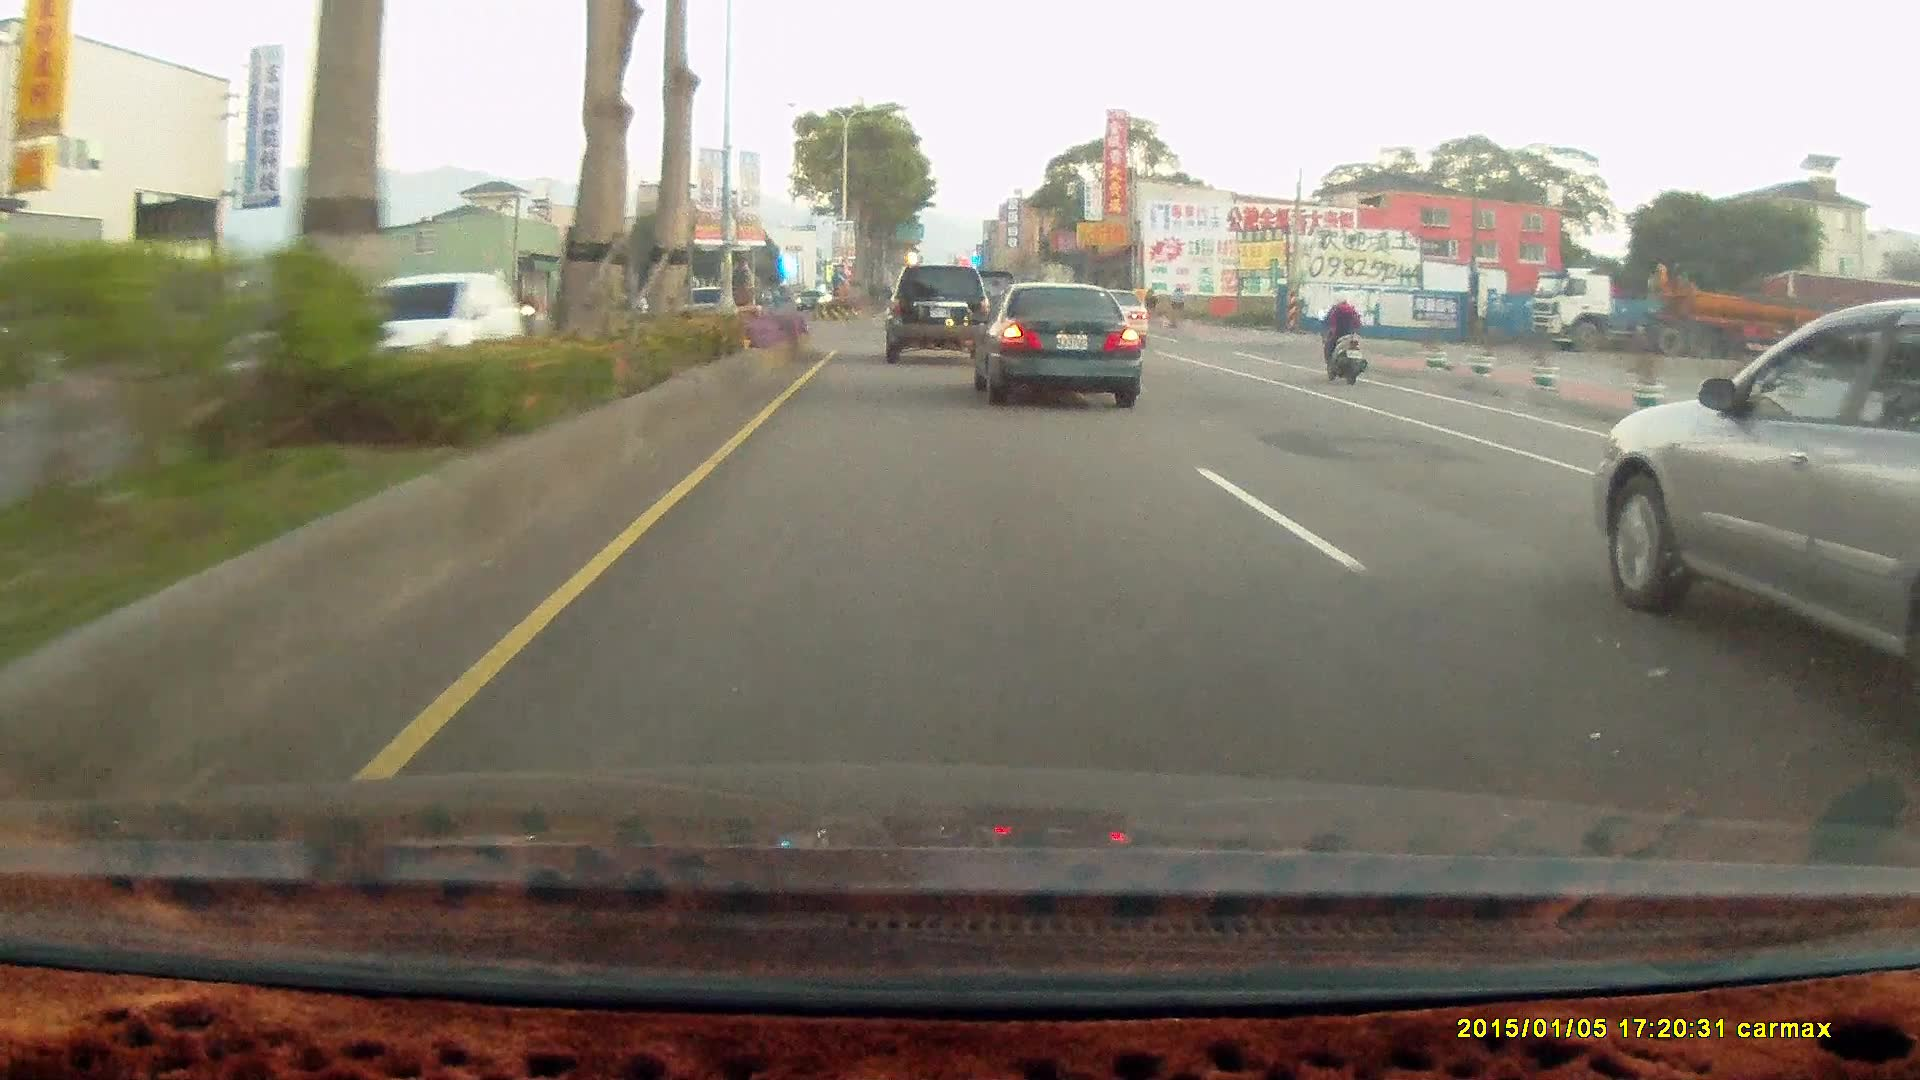rider: (1309, 283, 1375, 392), (1312, 292, 1368, 388), (509, 293, 542, 350)
vehicle: (1603, 296, 1920, 731), (1526, 265, 1903, 365), (341, 270, 526, 393), (965, 286, 1139, 412), (974, 290, 1143, 412), (885, 266, 995, 369), (883, 263, 990, 364)
